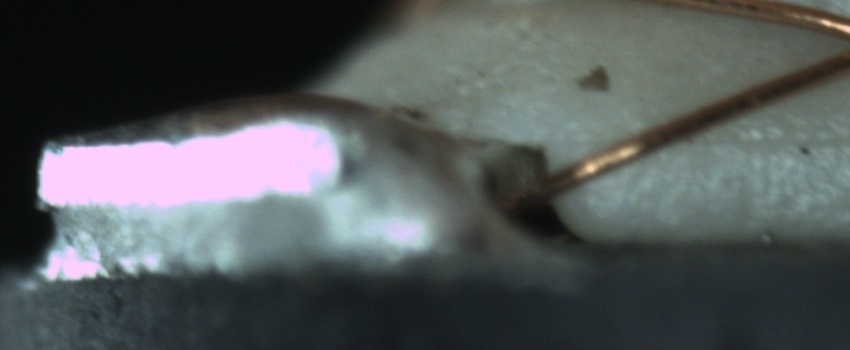CL: (830, 16, 850, 70)
DL: (669, 109, 849, 170)
